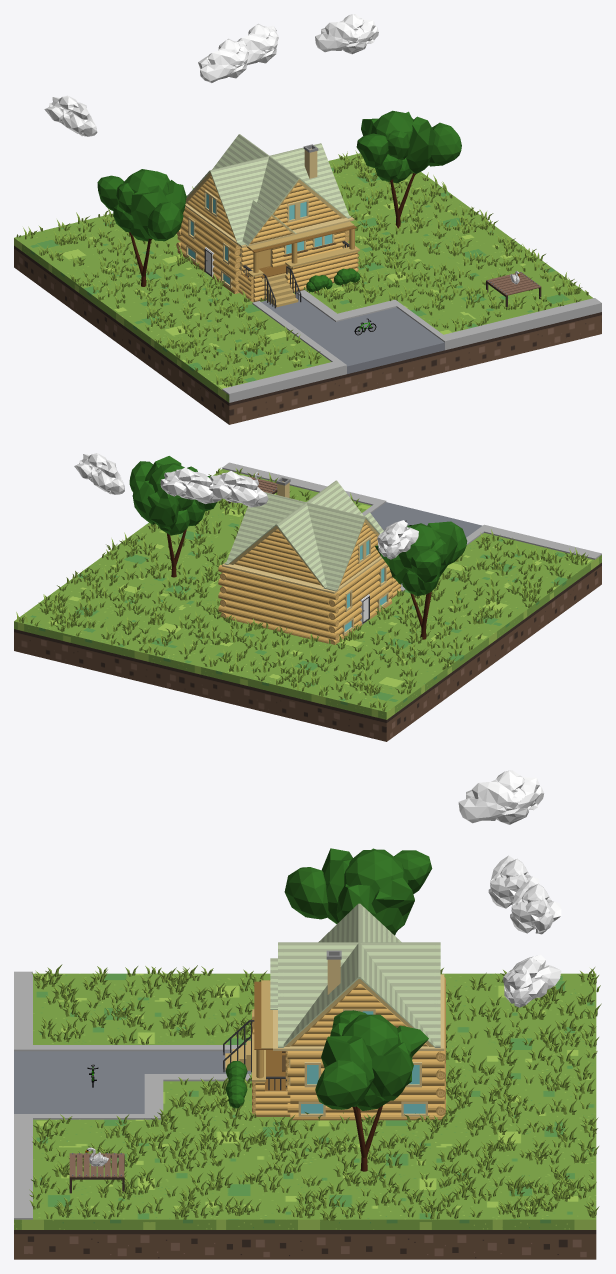
The picture shows the model from 3 angles, top to bottom: view 1: azimuth 30°, elevation 25°; view 2: azimuth 150°, elevation 25°; view 3: azimuth 270°, elevation 25°; orthographic projection. The views are drawn at different scales.
Parts seen in each view (by area): view 1: Cube.006, Cube.1516, Circle.012_Grass_0.192, Cube.007, tree, tree.001, Cube.009; view 2: Cube.006, Cube.1516, Circle.012_Grass_0.192, Cube.007, tree.001, tree; view 3: Cube.006, Circle.012_Grass_0.192, Cube.1516, tree, Cube.007, tree.001, Cube.009.
Part boxes in pixels (x1,y1,x2,y2): Cube.006: (14,153,601,424); Cube.1516: (176,134,359,308); Circle.012_Grass_0.192: (16,150,588,386); Cube.007: (44,14,378,136); tree: (356,110,461,228); tree.001: (97,169,186,286); Cube.009: (486,272,541,306); Cube.006: (14,462,601,741); Cube.1516: (218,477,401,644); Circle.012_Grass_0.192: (16,468,588,711); Cube.007: (74,453,418,559); tree.001: (375,521,467,639); tree: (129,456,216,577); Cube.006: (14,971,596,1259); Circle.012_Grass_0.192: (29,964,601,1220); Cube.1516: (223,903,445,1120); tree: (315,1010,428,1171); Cube.007: (458,770,561,1007); tree.001: (284,848,432,935); Cube.009: (69,1153,124,1193).
Bounding box in the file's own units: 4071 × 2328 × 4040.
33 materials, 4 textured.
